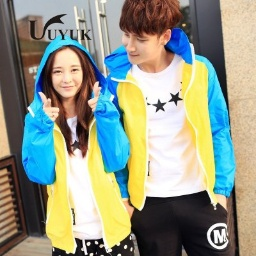face: (34, 41, 101, 106), (116, 1, 184, 63)
